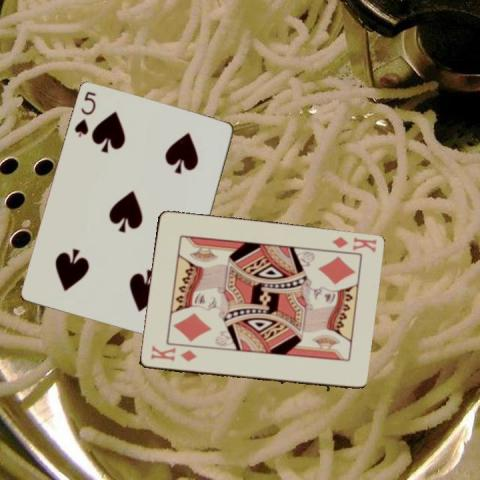5s: (72, 88, 98, 138)
Kd: (323, 234, 378, 257), (147, 343, 198, 363)
